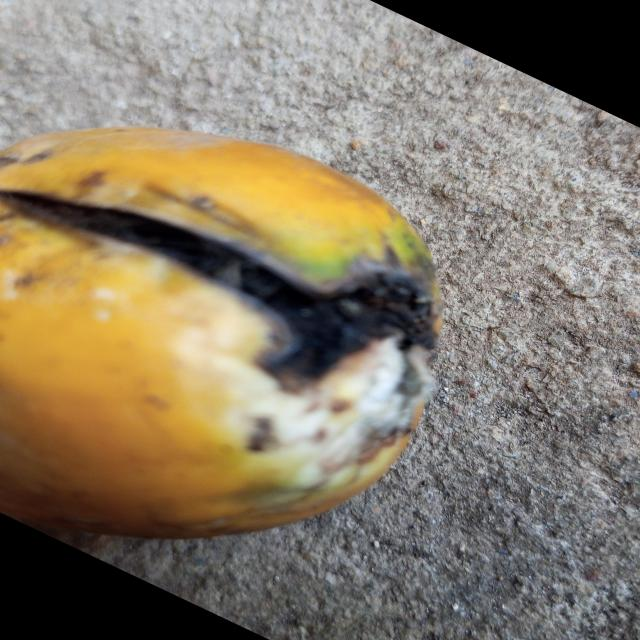damaged: (0, 127, 442, 538)
